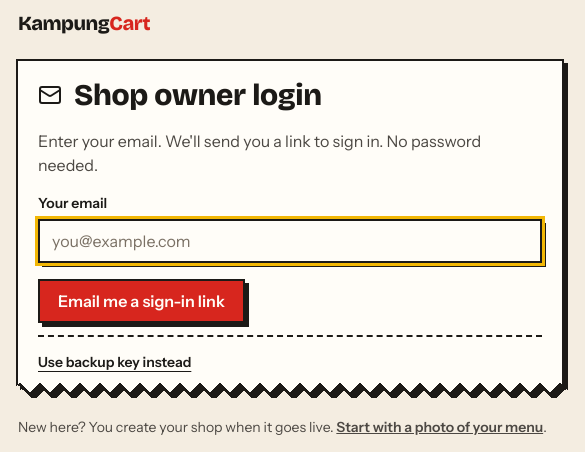
it: shop owner login › asks for an email only and sends a sign-in link
The width and height of the screenshot is (585, 452).
Type "siti@example.sg" into the field labelled "Your email" at (290, 241), box left=38, top=219, right=542, bottom=263
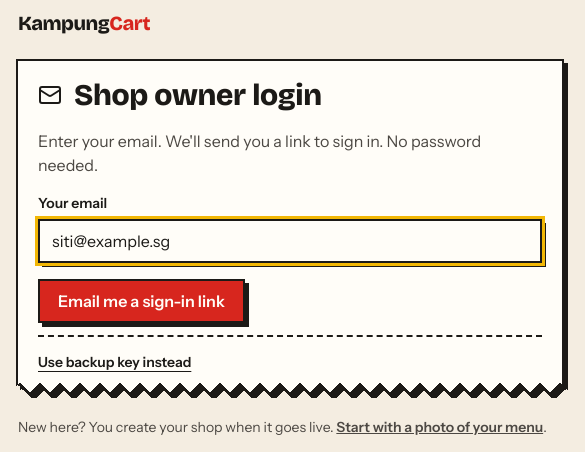
Click the button "Email me a sign-in link" at (141, 301), box left=38, top=279, right=245, bottom=323
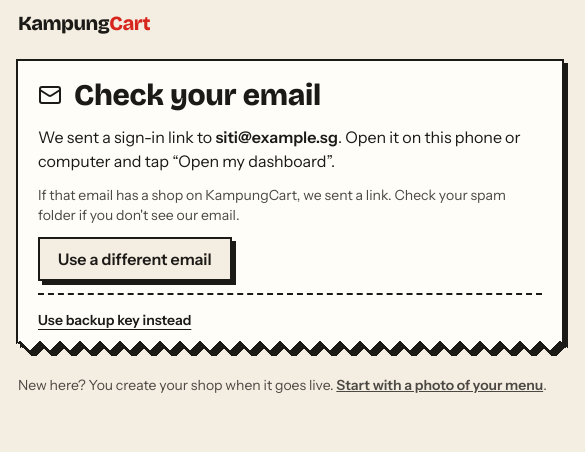
expect the heading "Check your email" is shown: met, box left=74, top=77, right=321, bottom=113
expect the message shows "siti@example.sg": met, box left=215, top=127, right=338, bottom=147
expect the text "Check your spam folder if you don't see our email." is shown: met, box left=38, top=186, right=506, bottom=224
